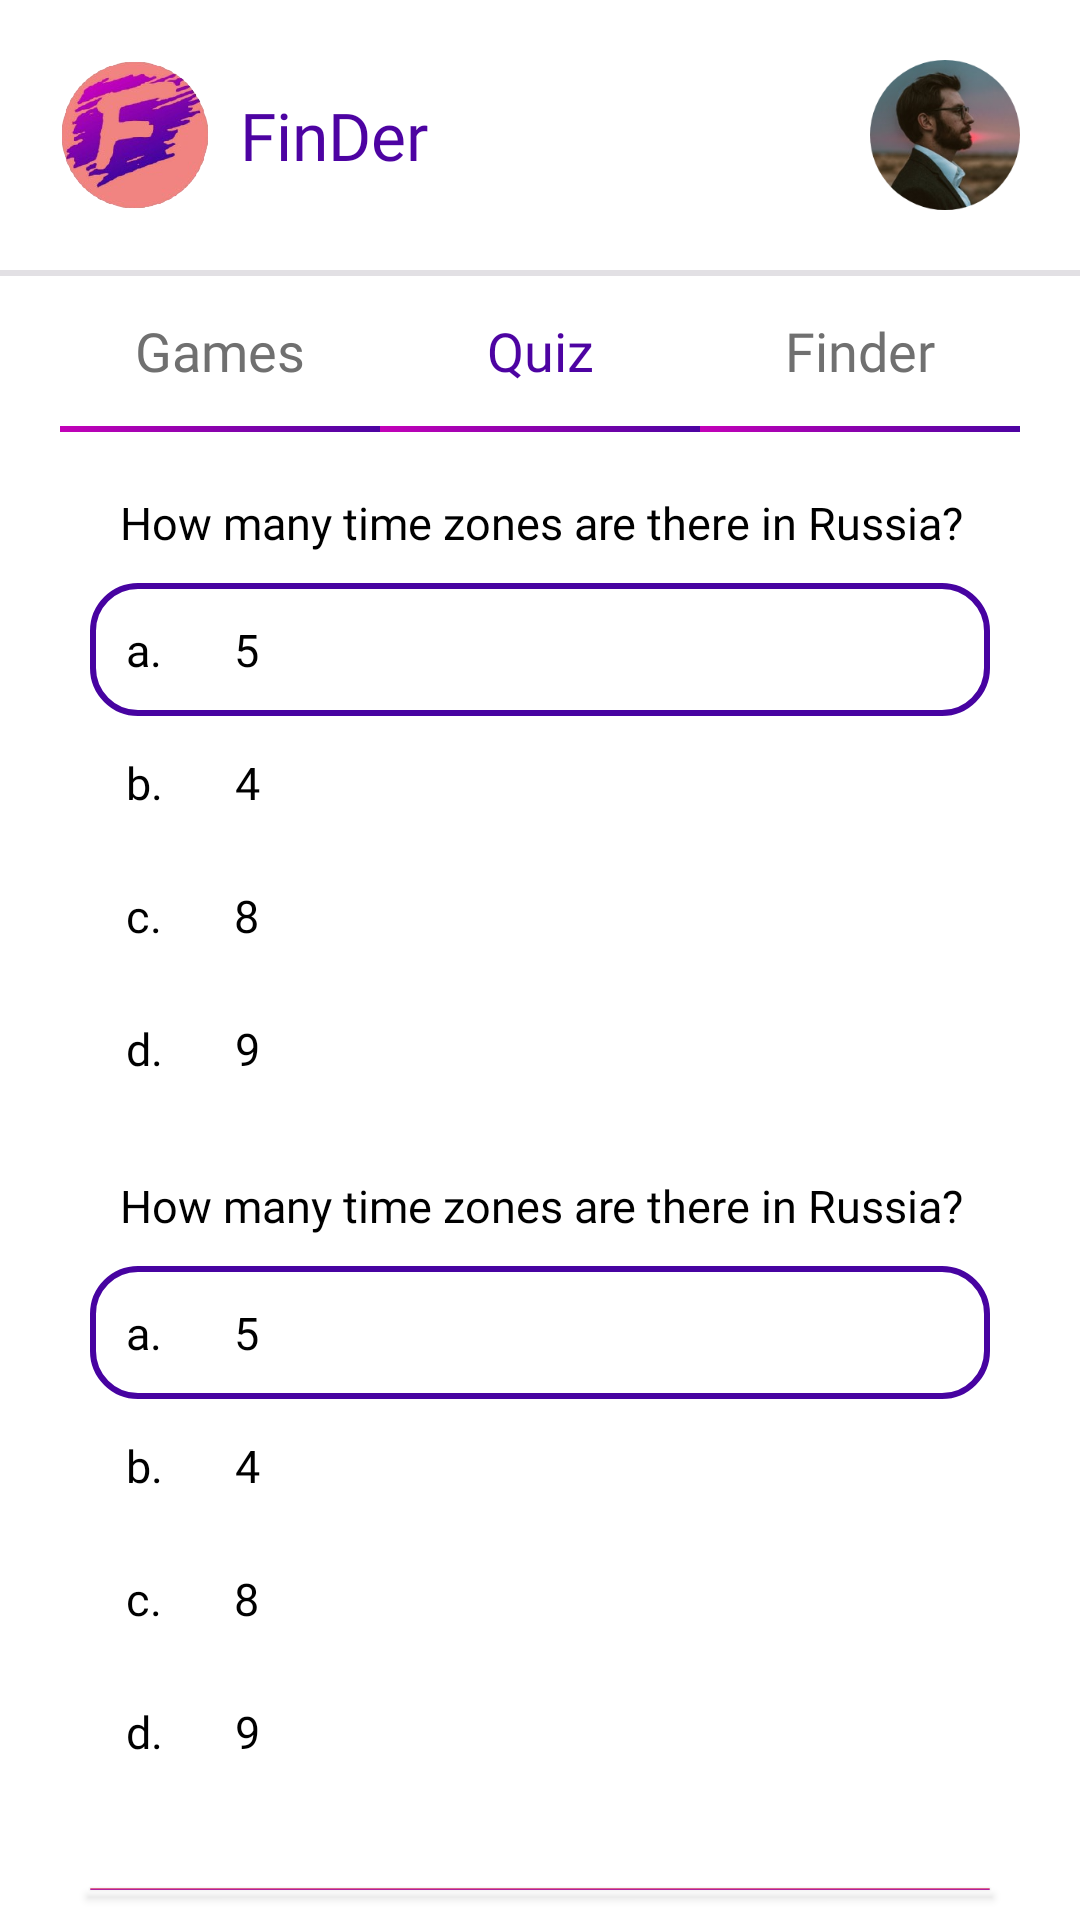

Where to tap for icons on this 1080 x 1920 app screen, as point (x, y):
profile pic: point (945, 135)
